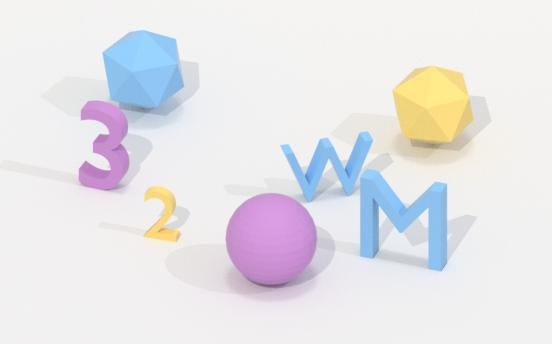2: (140, 184, 186, 245)
3: (73, 100, 137, 192)
M-hoa: (353, 173, 454, 273)
cau: (217, 192, 326, 289)
dagiac: (91, 30, 192, 110), (388, 66, 477, 147)
w: (273, 133, 380, 203)
